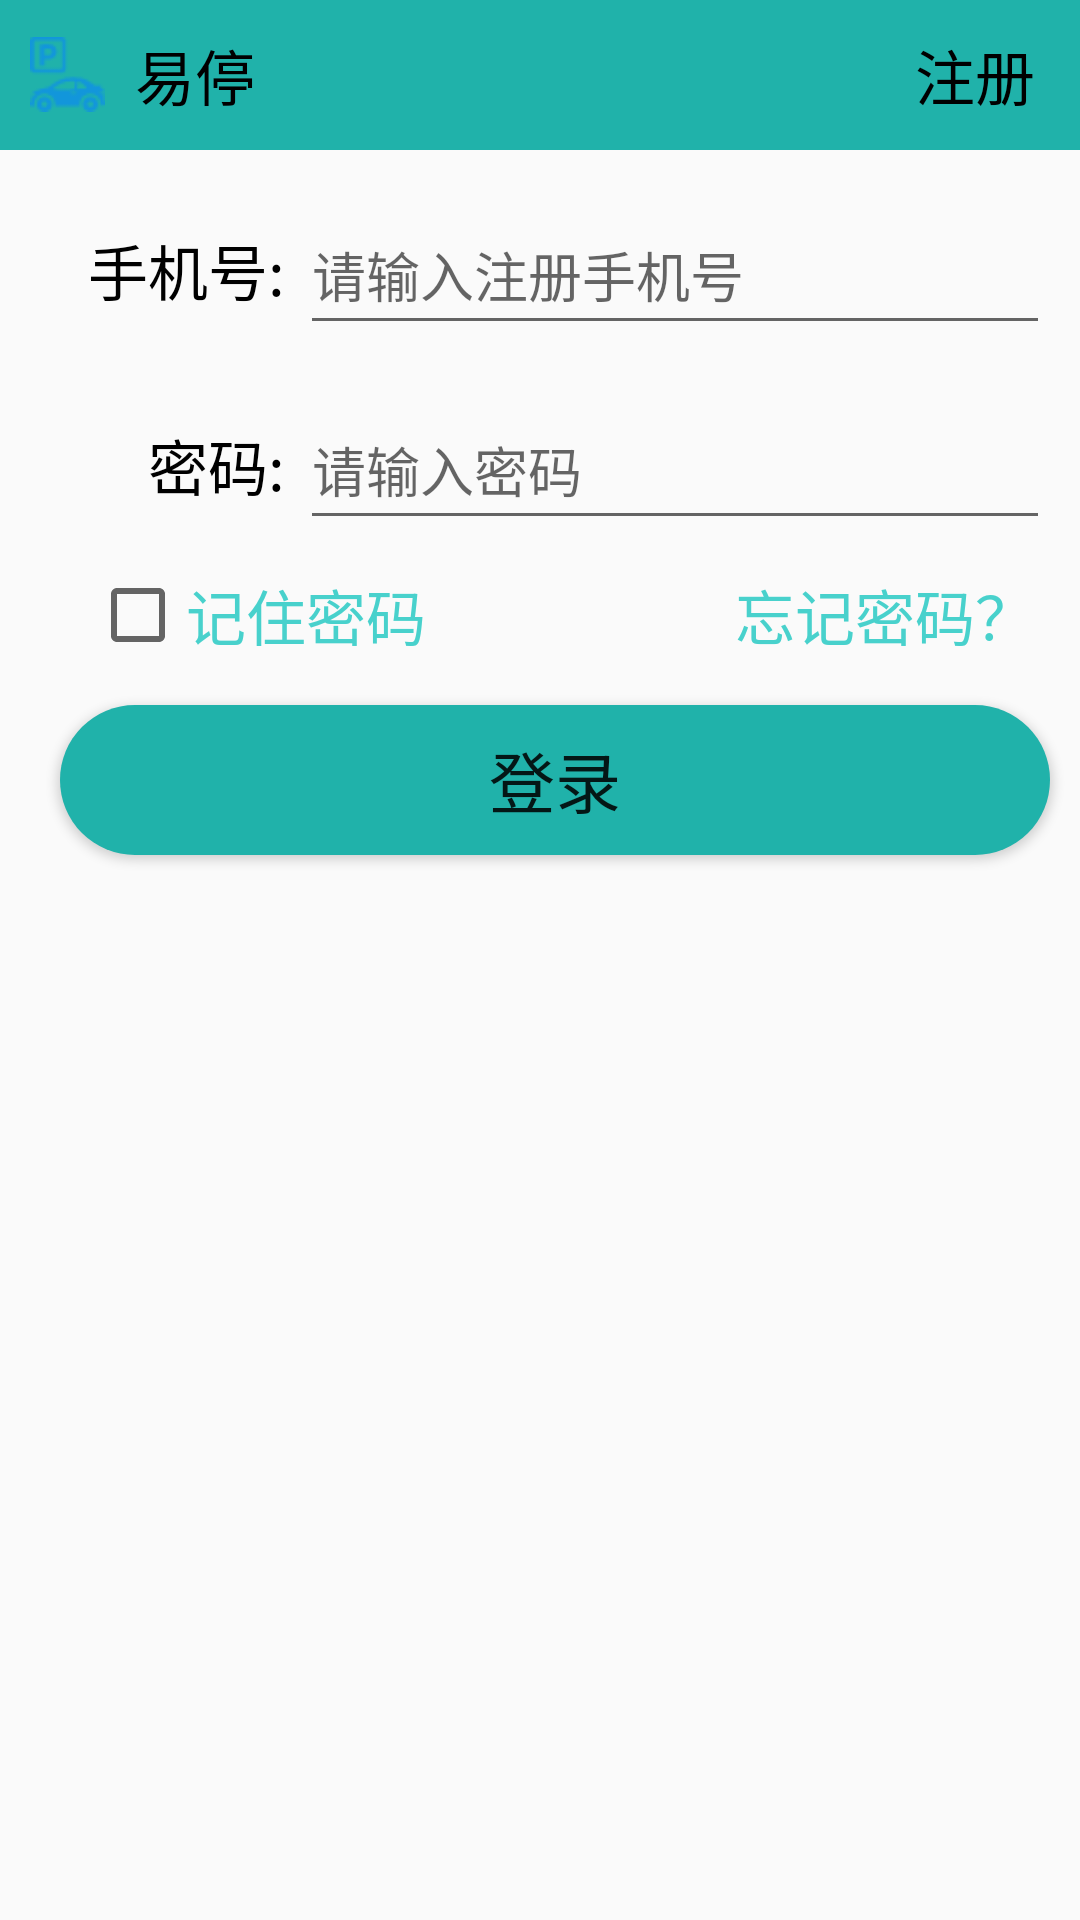

Icons on this 1080×1920 Android screen, each with its box as detection(x1, y1, x2, y2):
parking: detection(30, 37, 105, 112)
